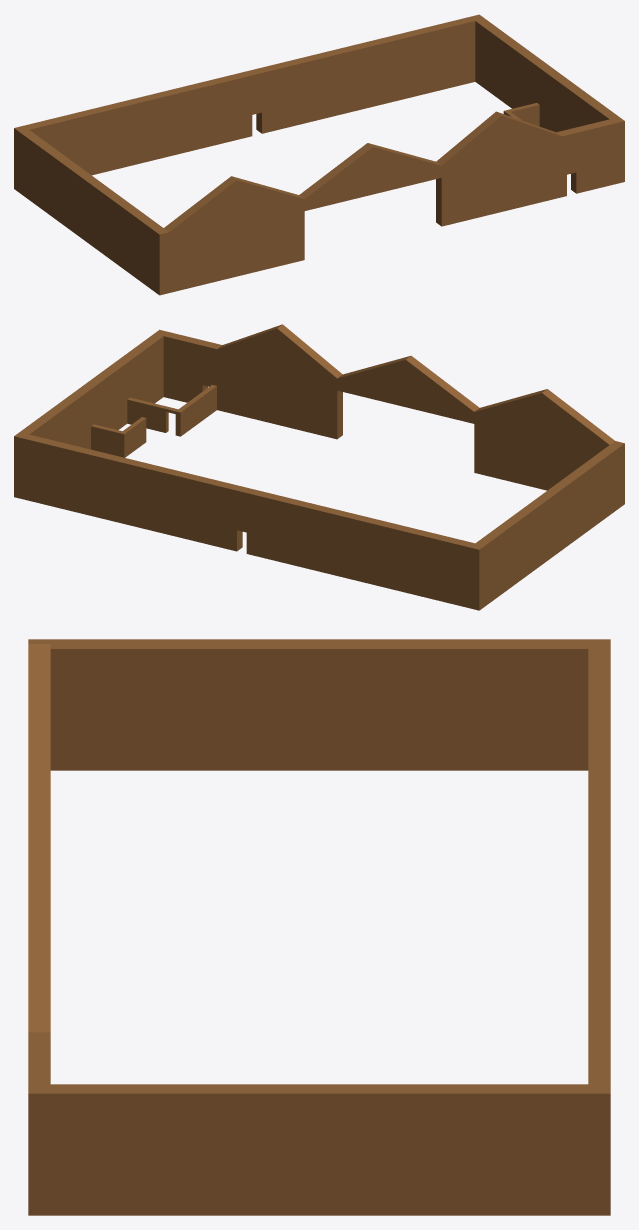
File: WarehouseWalls.fbx
3 renders of one model, top to bottom at view 1: azimuth 30°, elevation 25°; view 2: azimuth 150°, elevation 25°; view 3: azimuth 270°, elevation 25°, orthographic. The views are drawn at different scales.
Parts seen in each view (by area): view 1: Walls; view 2: Walls; view 3: Walls.
Boxes of the visible parts, x1=… form: Walls: x1=14, y1=14, x2=624, y2=295; Walls: x1=14, y1=324, x2=624, y2=610; Walls: x1=28, y1=639, x2=610, y2=1215.
Size of the model in its own units: 4800 by 950 by 2600.
